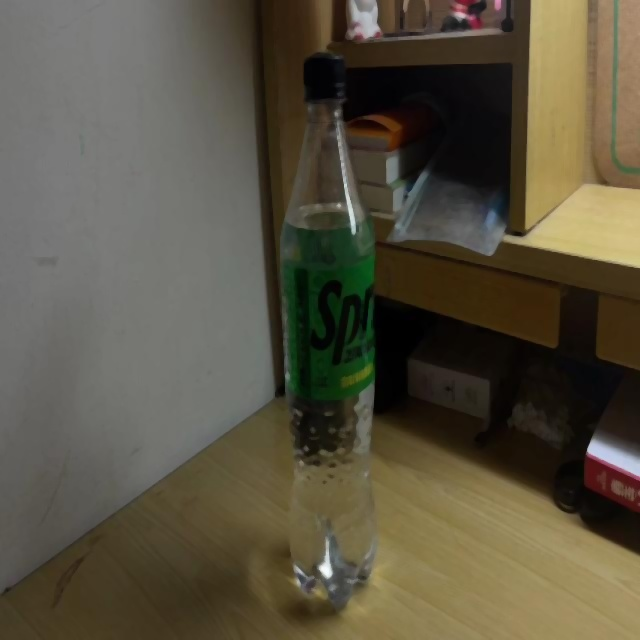Sprite: (279, 46, 377, 617)
